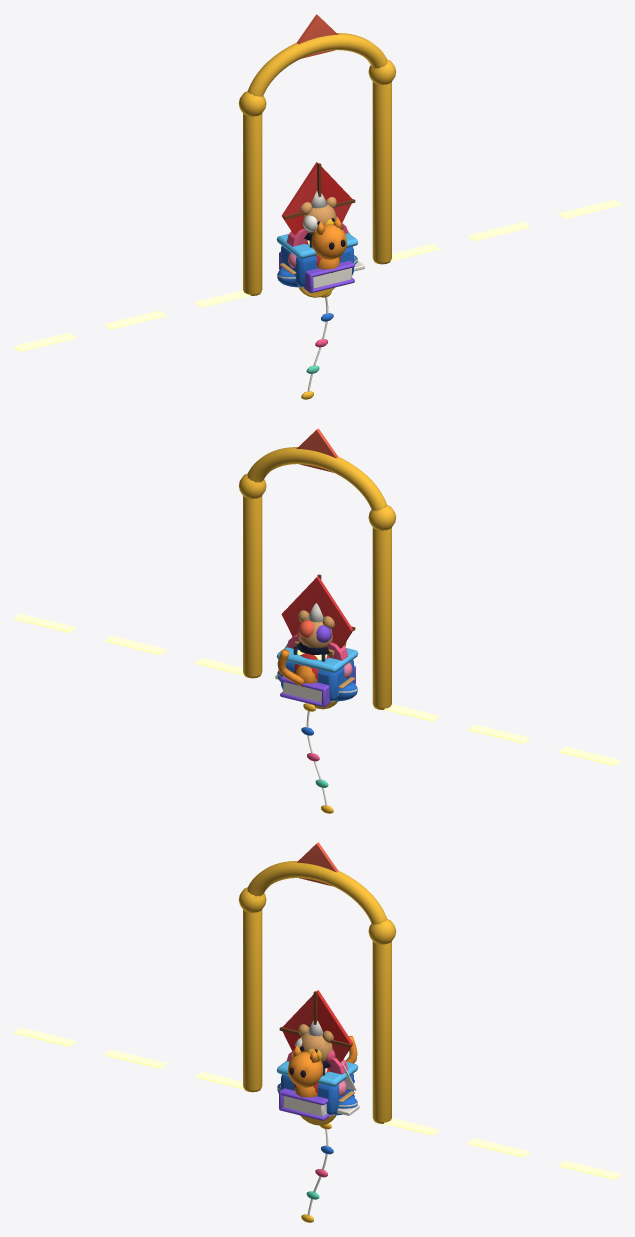
File: props.glb
3 views of the same model, one above another, from view 1: azimuth 30°, elevation 25°; view 2: azimuth 150°, elevation 25°; view 3: azimuth 330°, elevation 25° (orthographic).
Visible parts, largest first — view 1: Prop_gate_Gloss, Prop_lane_track_Glow_warm, Prop_kite_Kite, Prop_tin_Gloss, Prop_cat_Satin, Prop_kite_Satin, Prop_book_Gloss, Prop_teddy_Satin; view 2: Prop_gate_Gloss, Prop_lane_track_Glow_warm, Prop_kite_Kite, Prop_tin_Gloss, Prop_cat_Satin, Prop_kite_Satin, Prop_book_Gloss, Prop_teddy_Satin; view 3: Prop_gate_Gloss, Prop_lane_track_Glow_warm, Prop_kite_Kite, Prop_cat_Satin, Prop_tin_Gloss, Prop_kite_Satin, Prop_teddy_Satin, Prop_book_Gloss, Prop_book_Satin.
Part boxes in pixels (x1,y1,x2,y2): Prop_gate_Gloss: (238,14,396,295); Prop_lane_track_Glow_warm: (14,199,620,351); Prop_kite_Kite: (281,162,352,234); Prop_tin_Gloss: (276,233,358,286); Prop_cat_Satin: (311,217,347,272); Prop_kite_Satin: (283,163,355,399); Prop_book_Gloss: (279,251,354,293); Prop_teddy_Satin: (300,197,336,233); Prop_gate_Gloss: (238,428,396,709); Prop_lane_track_Glow_warm: (14,613,620,765); Prop_kite_Kite: (281,576,353,648); Prop_tin_Gloss: (276,647,358,700); Prop_cat_Satin: (277,641,346,686); Prop_kite_Satin: (284,574,355,813); Prop_book_Gloss: (280,665,355,707); Prop_teddy_Satin: (298,610,334,648); Prop_gate_Gloss: (238,842,396,1123); Prop_lane_track_Glow_warm: (14,1027,620,1179); Prop_kite_Kite: (282,990,353,1062); Prop_cat_Satin: (287,1036,357,1100); Prop_tin_Gloss: (276,1061,358,1114); Prop_kite_Satin: (279,991,351,1222); Prop_teddy_Satin: (298,1024,333,1061); Prop_book_Gloss: (279,1079,354,1120); Prop_book_Satin: (283,1096,327,1116).
Size of the model in its own units: 6.48 by 3.94 by 0.8482.
